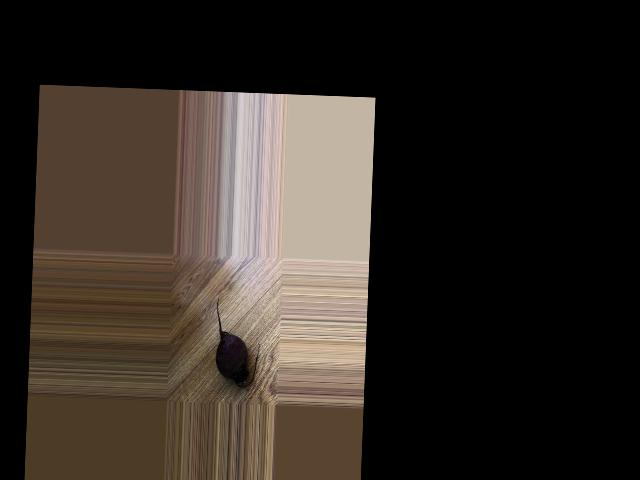beet: (213, 297, 261, 387)
